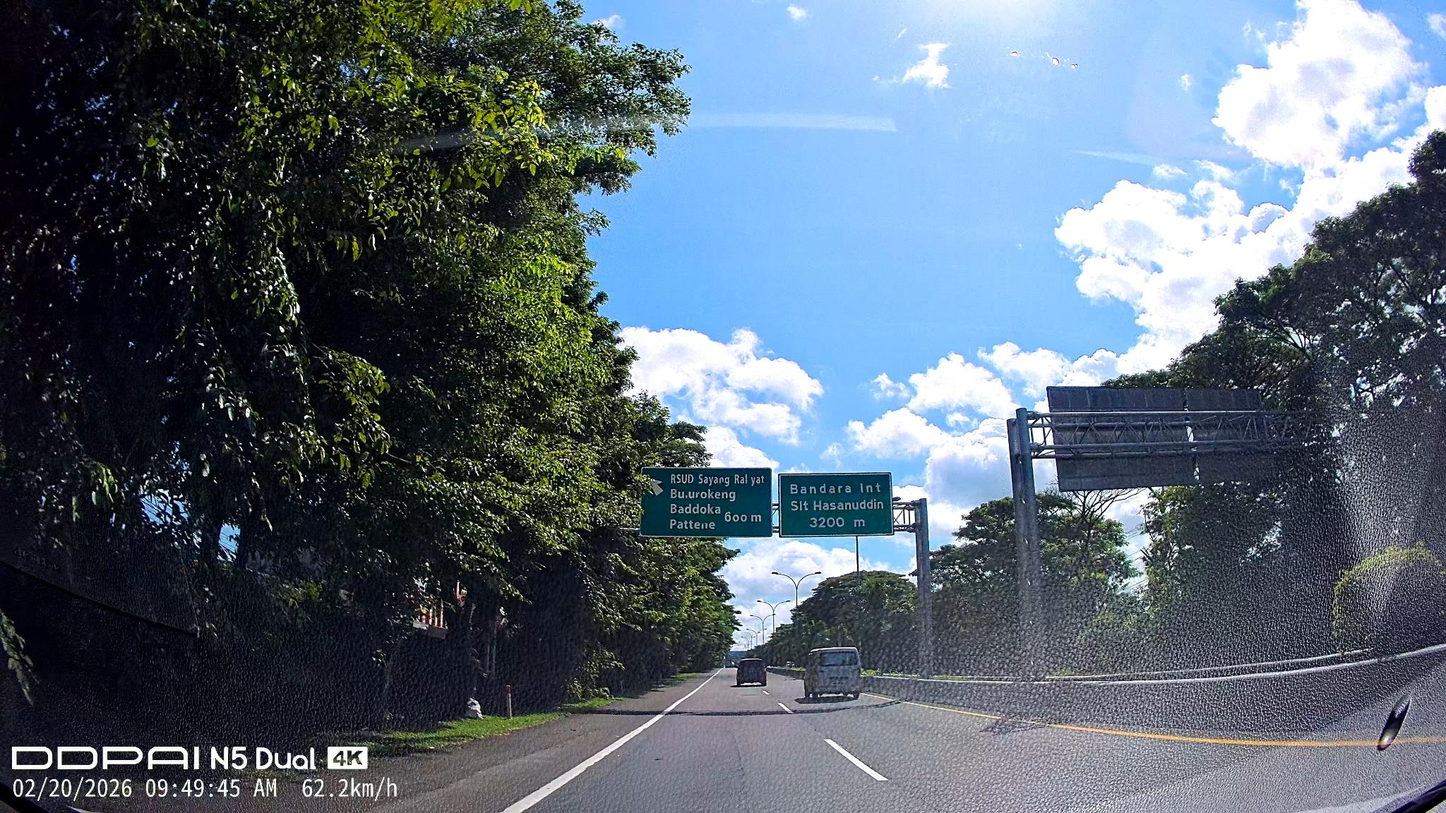rambu_teks: (638, 466, 774, 539), (779, 472, 896, 538)
